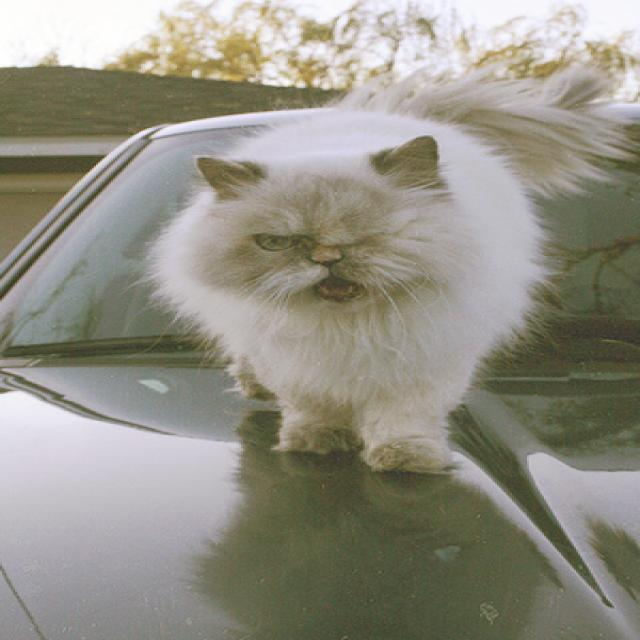Persian: (143, 65, 638, 482)
